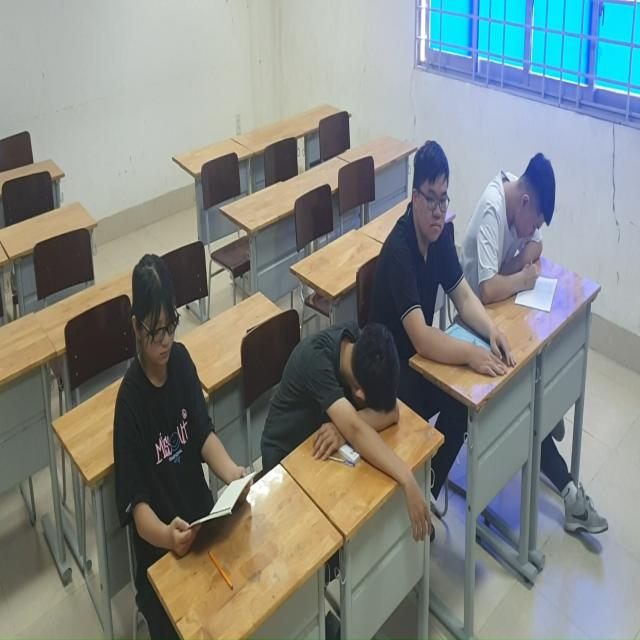read: (99, 246, 258, 557), (395, 137, 515, 380), (484, 133, 565, 329)
sleep: (260, 306, 422, 502)
